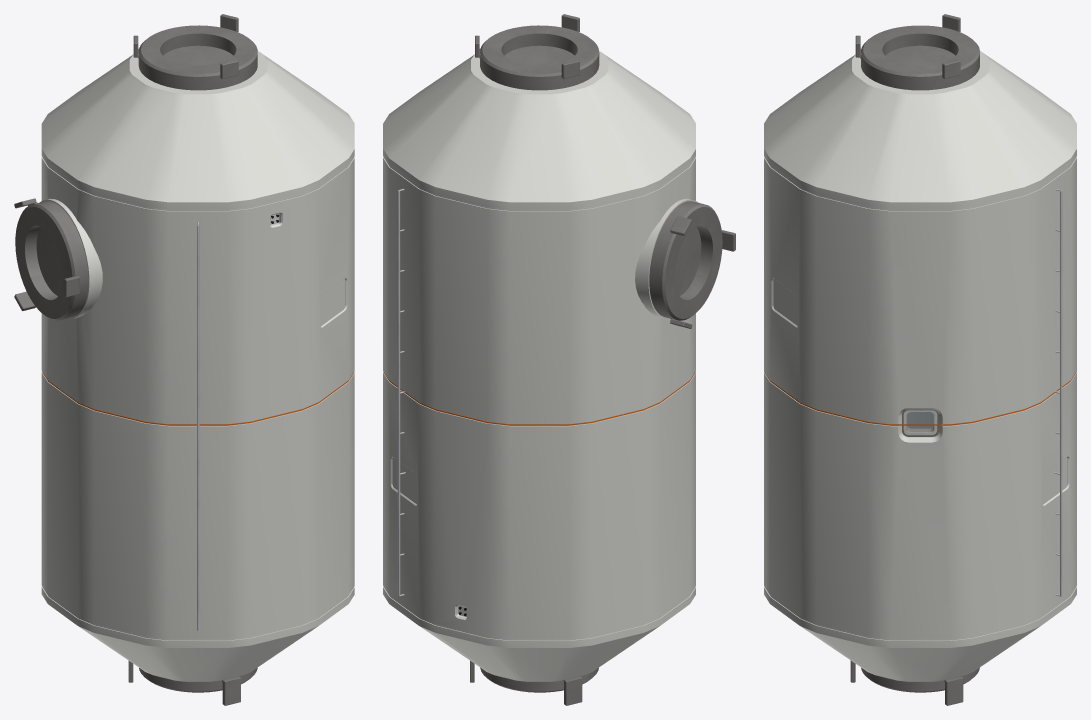
The model's file is ax_station_06_lab.glb.
3 renders of one model, left to right at view 1: azimuth 30°, elevation 25°; view 2: azimuth 150°, elevation 25°; view 3: azimuth 270°, elevation 25°, orthographic.
Parts seen in each view (by area): view 1: pressure_hull, port_1, port_top, port_1_pedestal, handrails, hatch_door_3, hatch_door_2, port_bottom, port_top_petals, port_1_petals, orange_stripes, port_bottom_petals; view 2: pressure_hull, port_1, port_top, handrails, port_1_pedestal, hatch_door_3, hatch_door_2, port_bottom, port_1_petals, port_top_petals, orange_stripes, port_bottom_petals; view 3: pressure_hull, port_top, handrails, hatch_door_2, port_bottom, port_top_petals, orange_stripes, port_bottom_petals, window_glass.
Boxes of the visible parts, x1,y1,x2,y2 form: pressure_hull: (41, 51, 354, 681); port_1: (15, 201, 88, 320); port_top: (138, 25, 257, 90); port_1_pedestal: (39, 198, 102, 318); handrails: (197, 222, 199, 630); hatch_door_3: (36, 227, 62, 295); hatch_door_2: (163, 45, 233, 65); port_bottom: (139, 667, 257, 692); port_top_petals: (133, 14, 238, 78); port_1_petals: (14, 198, 79, 310); orange_stripes: (42, 372, 354, 425); port_bottom_petals: (128, 661, 240, 705); pressure_hull: (383, 51, 695, 681); port_1: (649, 201, 722, 320); port_top: (480, 25, 599, 90); handrails: (397, 188, 405, 596); port_1_pedestal: (635, 198, 698, 318); hatch_door_3: (675, 227, 701, 295); hatch_door_2: (504, 45, 574, 65); port_bottom: (480, 667, 598, 692); port_1_petals: (670, 216, 735, 328); port_top_petals: (475, 14, 579, 79); orange_stripes: (383, 372, 695, 425); port_bottom_petals: (470, 661, 582, 705); pressure_hull: (764, 51, 1076, 681); port_top: (861, 25, 979, 90); handrails: (1054, 188, 1062, 596); hatch_door_2: (885, 45, 955, 65); port_bottom: (861, 667, 979, 692); port_top_petals: (855, 14, 960, 78); orange_stripes: (764, 371, 1076, 425); port_bottom_petals: (850, 660, 963, 705); window_glass: (906, 412, 934, 432).
Size of the model in its own units: 4.64 by 9.47 by 4.2.
6 materials, 2 textured.
